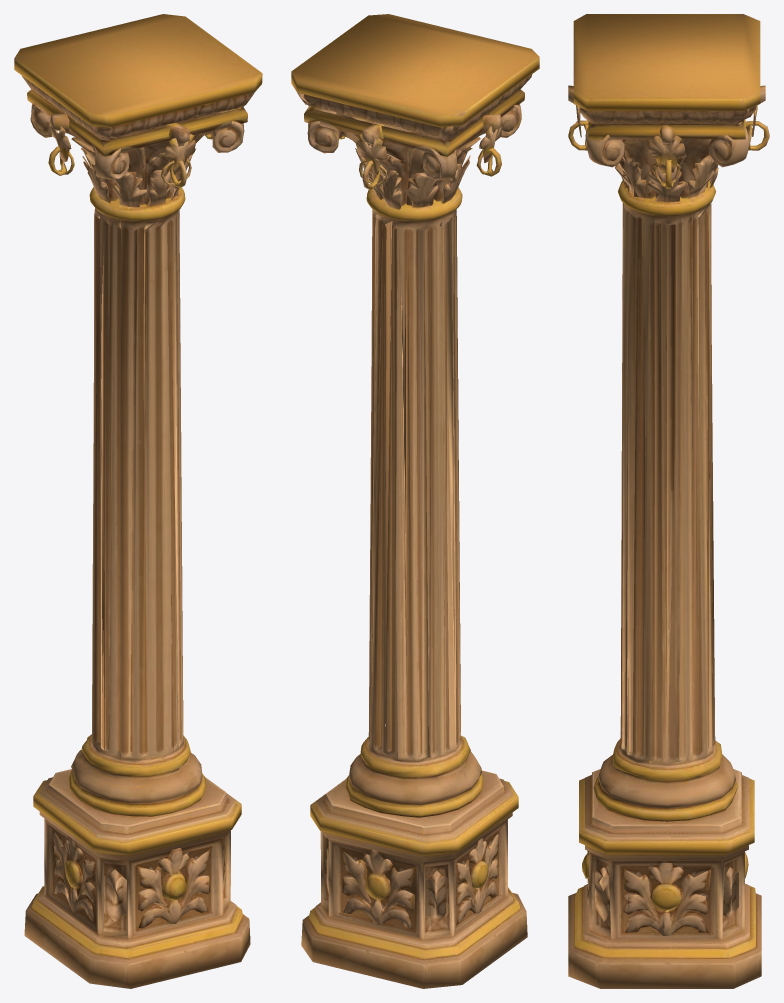
The model's file is camp_pilier_v1.glb.
3 views of the same model, side by side, from view 1: azimuth 30°, elevation 25°; view 2: azimuth 150°, elevation 25°; view 3: azimuth 270°, elevation 25° (orthographic).
Size of the model in its own units: 0.1987 by 0.9517 by 0.1948.
1 material, 1 textured.
